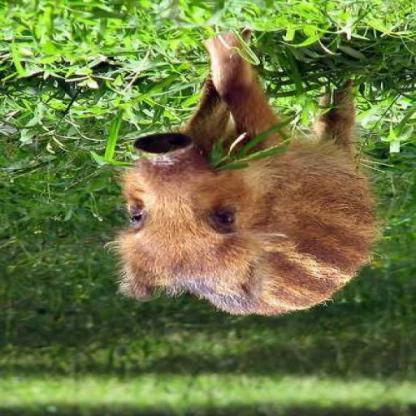boar: (71, 60, 392, 348)
